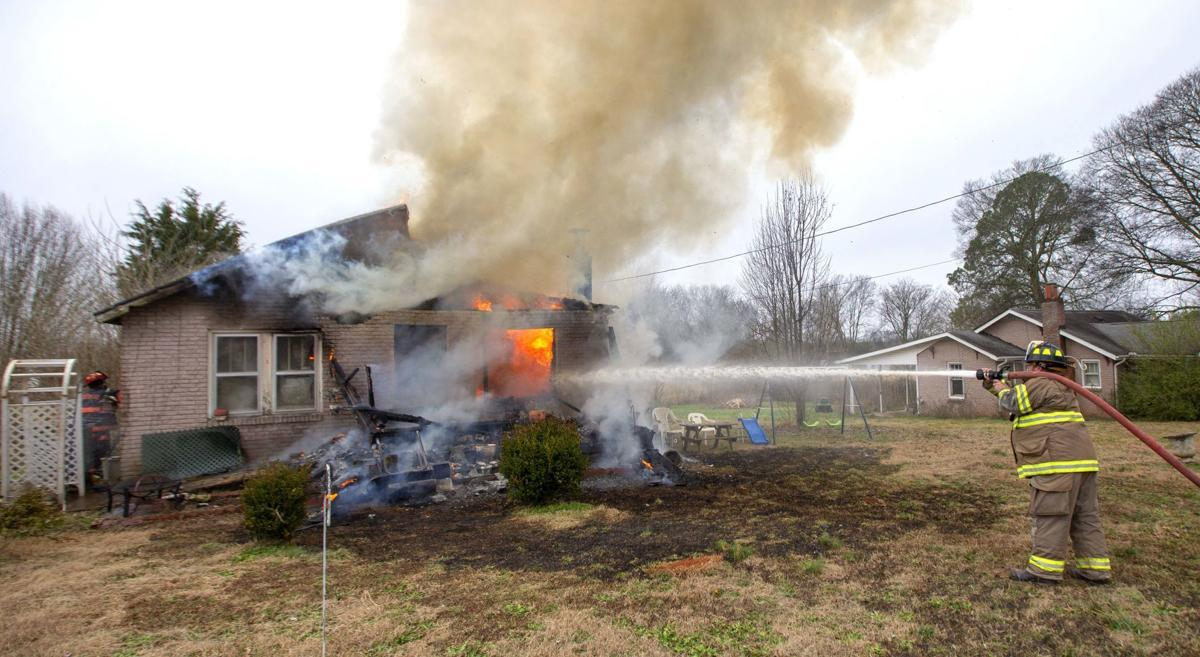fire: (507, 328, 557, 368), (472, 296, 497, 313)
smoke: (377, 0, 961, 305), (576, 308, 740, 488), (190, 227, 378, 323), (295, 421, 463, 512), (351, 326, 508, 419), (509, 370, 562, 414), (457, 308, 562, 325)
